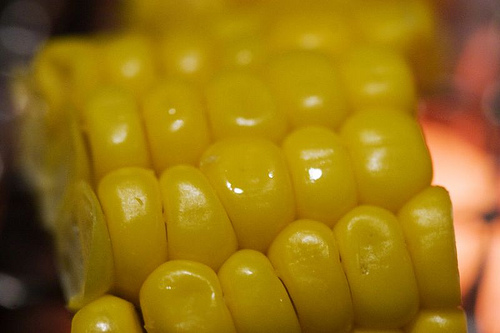corn: (5, 28, 469, 331)
